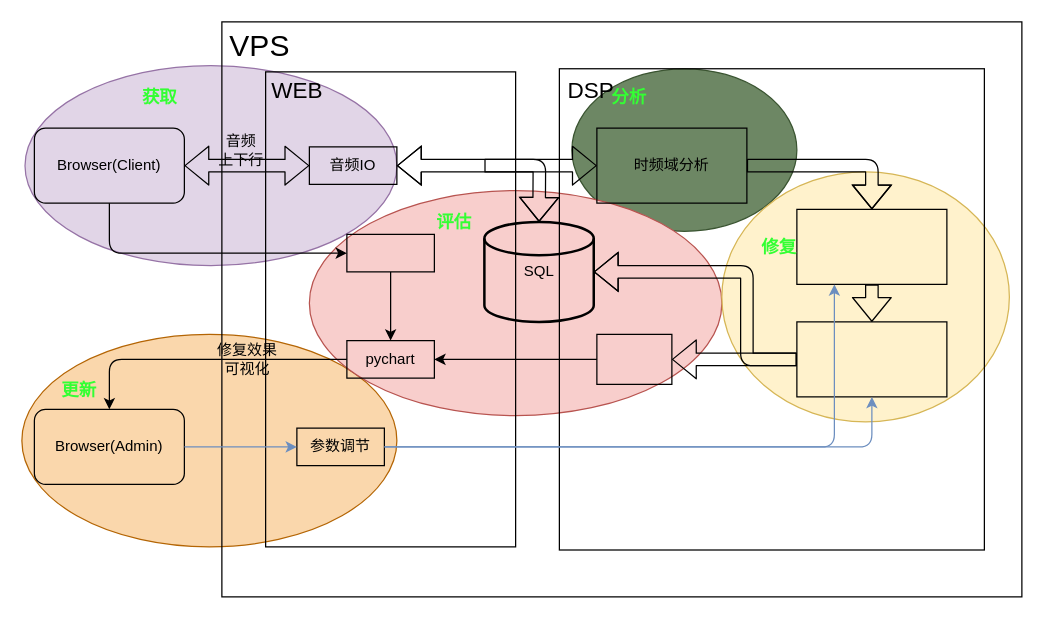
The diagram is 1044 pixels wide and 619 high, and some of its shapes have lost their labels. Each missing label, with the centre of its shape:
"RNN/RBF补缺" goes at [871,246].
"主观指标 收集" goes at [390,252].
"客观指标计算" goes at [634,358].
"小波阈值去燥" goes at [871,359].
